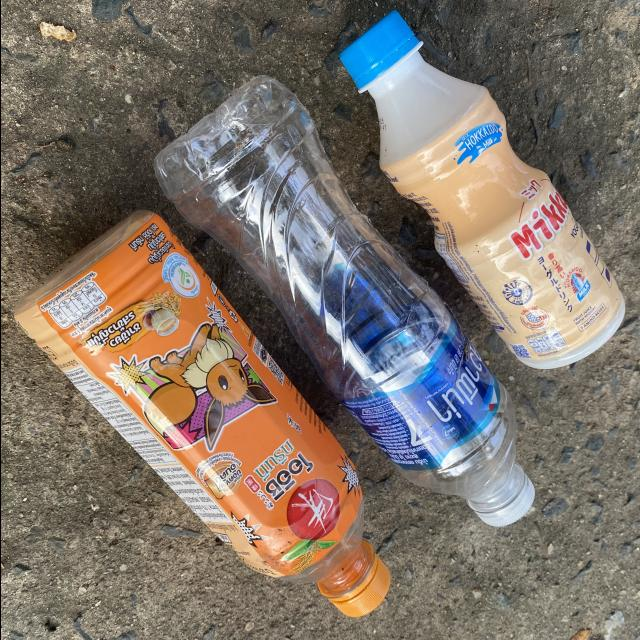plastik: (153, 76, 533, 526), (14, 212, 389, 617), (339, 12, 624, 369)
